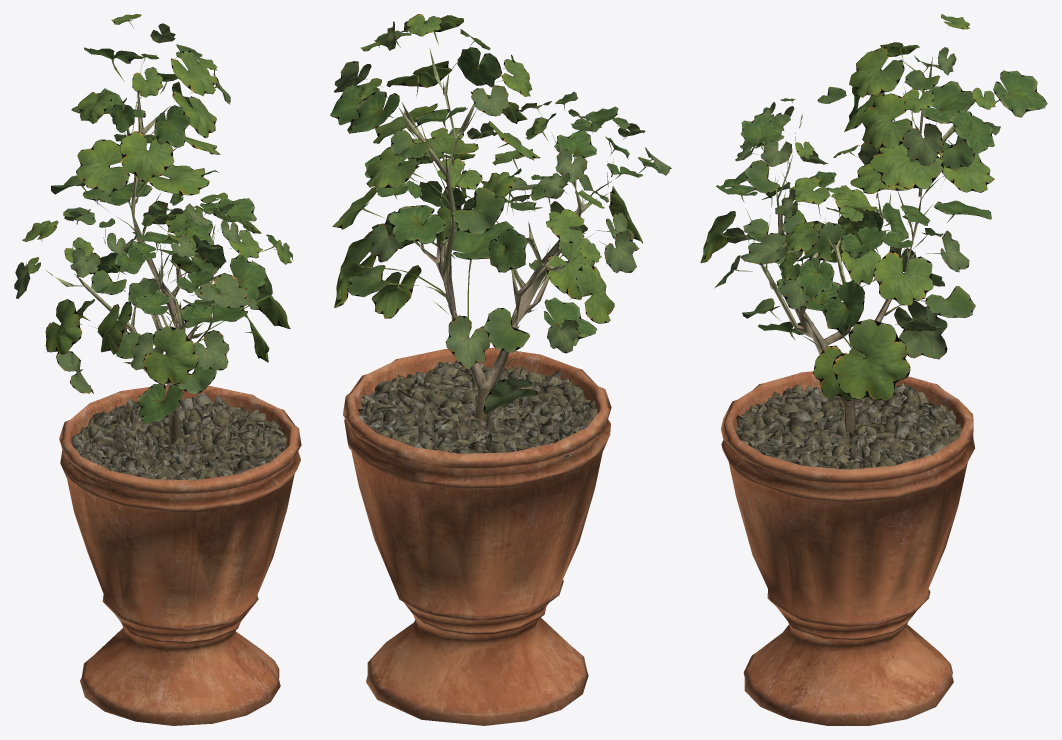
Rendered from potted_plant_01.glb.
3 views of the same model, side by side, from view 1: azimuth 30°, elevation 25°; view 2: azimuth 150°, elevation 25°; view 3: azimuth 270°, elevation 25° (orthographic). The views are drawn at different scales.
Visible parts, largest first — view 1: potted_plant_01_stem, potted_plant_01_leaves; view 2: potted_plant_01_stem, potted_plant_01_leaves; view 3: potted_plant_01_stem, potted_plant_01_leaves.
Boxes of the visible parts, <box> form: potted_plant_01_stem: <box>55,58,301,725</box>; potted_plant_01_leaves: <box>14,14,293,423</box>; potted_plant_01_stem: <box>343,48,611,725</box>; potted_plant_01_leaves: <box>330,14,671,414</box>; potted_plant_01_stem: <box>721,57,974,725</box>; potted_plant_01_leaves: <box>700,14,1047,401</box>.
Size of the model in its own units: 0.5866 by 1.33 by 0.6336.
2 materials, 2 textured.
